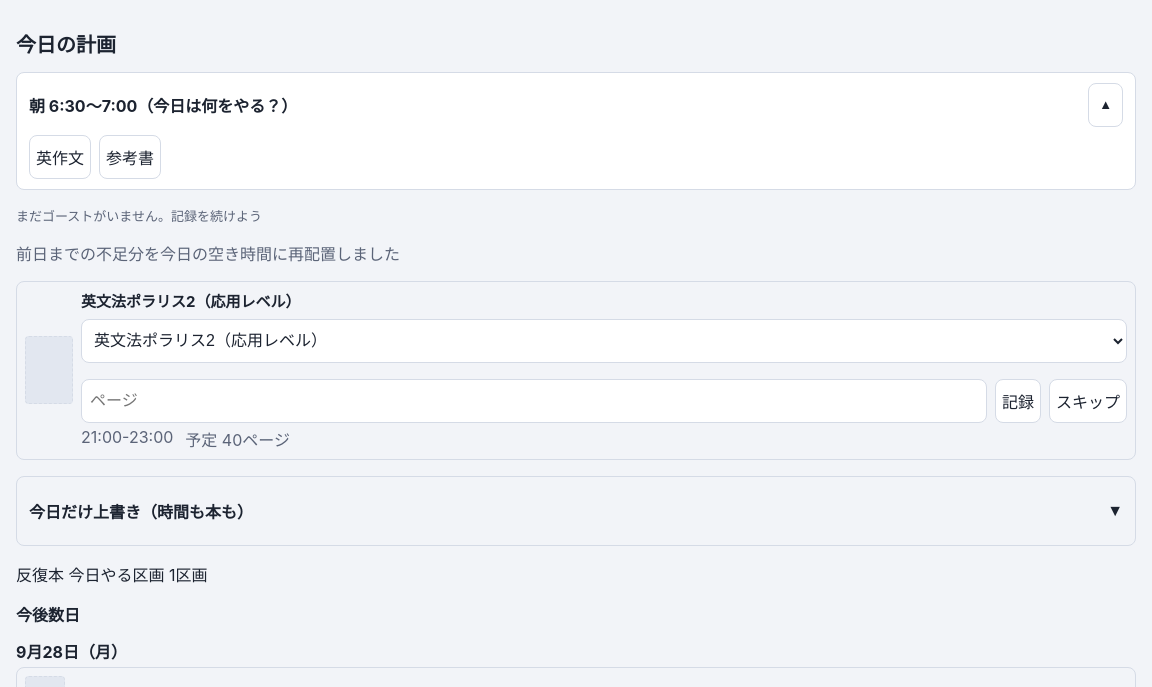
Test: TodayPlanScreen › lists cycles books in the reselect dropdown without changing their mode
Select "【反復】反復本" in the dropdown with test id "plan-book-select-0". click: {"x": 604, "y": 341}
box: [81,319,1127,363]
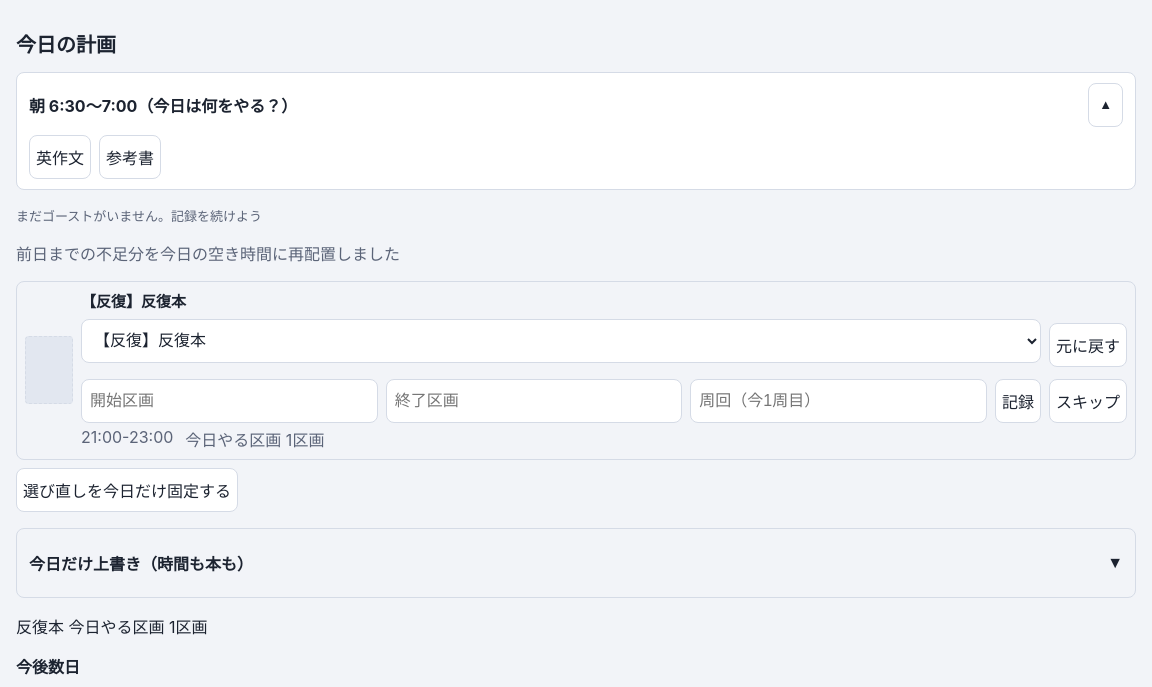
Check: the text with test id "plan-row-units" shows "区画", box [249,430,281,450]
